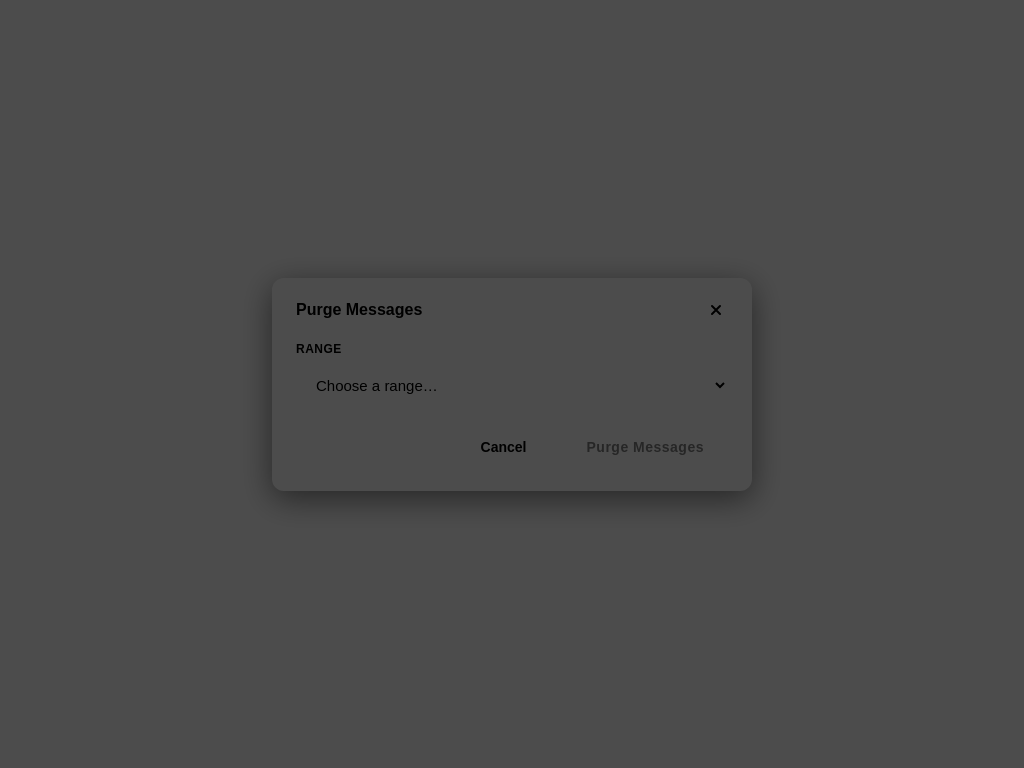
Test: PurgeMessagesModal — soft-lock stage › a soft-lock 403 opens the confirm stage instead of a result
This screenshot has width=1024, height=768.
Step 1. Select "Last 7 days" in the dropdown labelled "Range" → (512,385), box [296, 364, 728, 406]
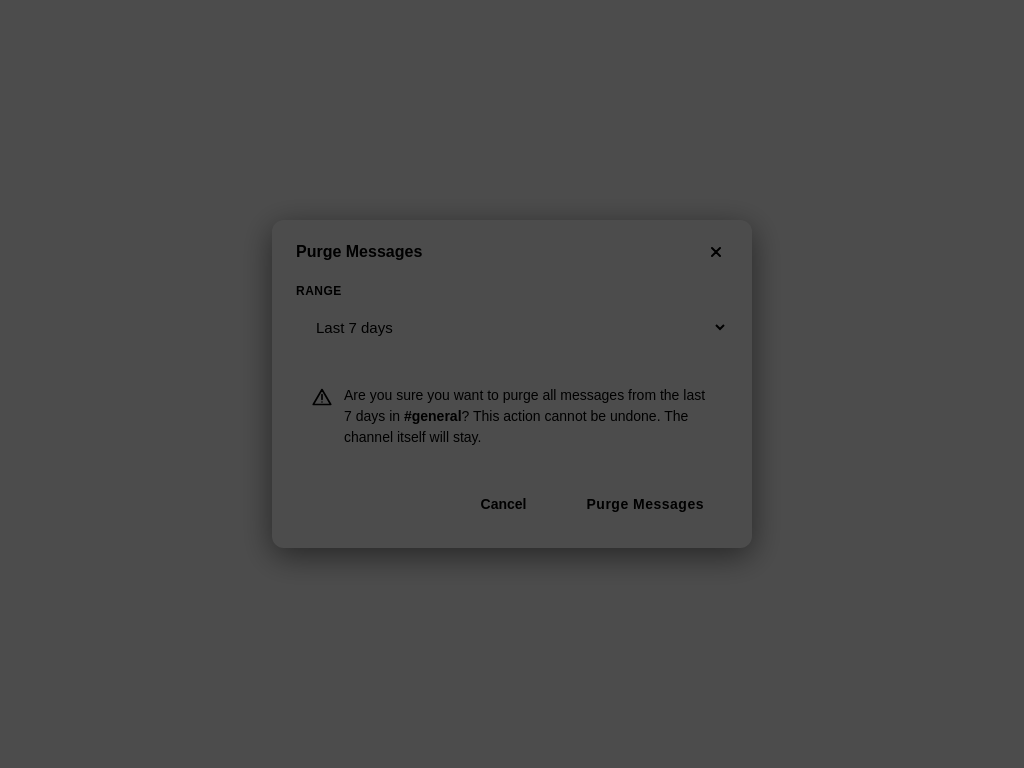
Step 2. Click the button "Purge Messages" → (645,504), box [562, 484, 728, 524]
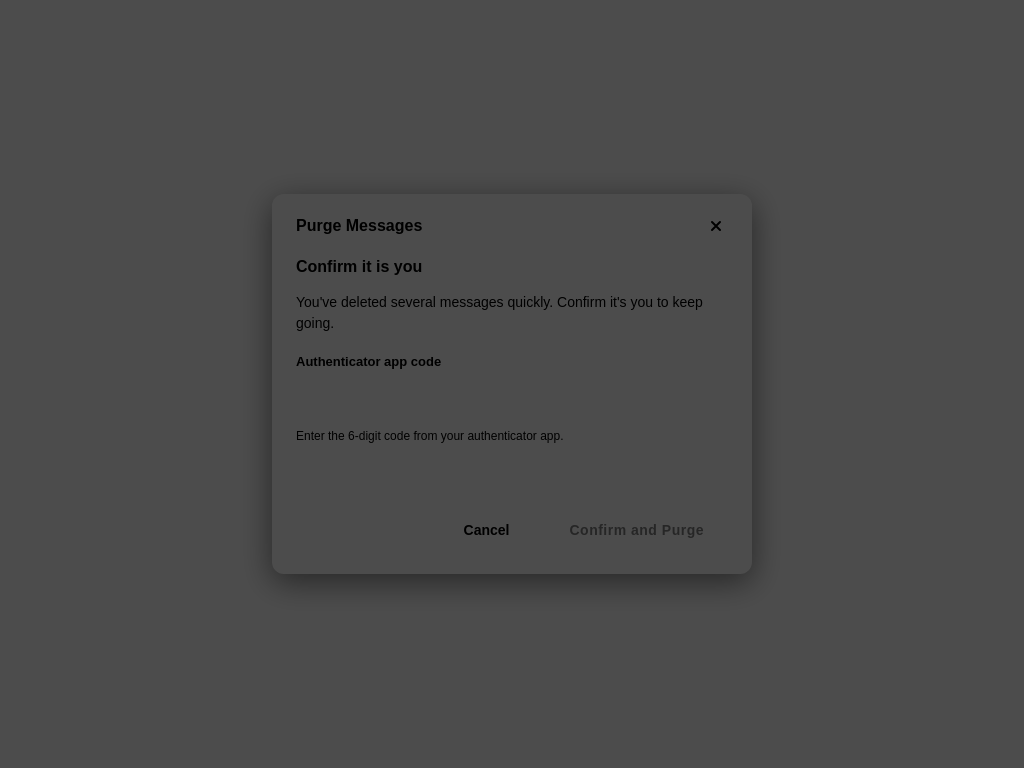
Result: the text "You've deleted several messages quickly. Confirm it's you to keep going." is shown at [296, 292, 728, 334]
Result: the button "Done" is gone
